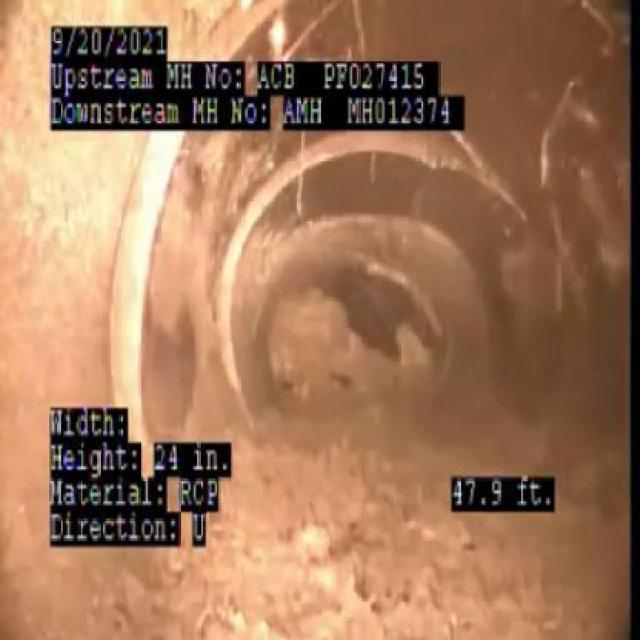Joint offset: (72, 138, 190, 396), (286, 136, 492, 184), (202, 180, 260, 332)
